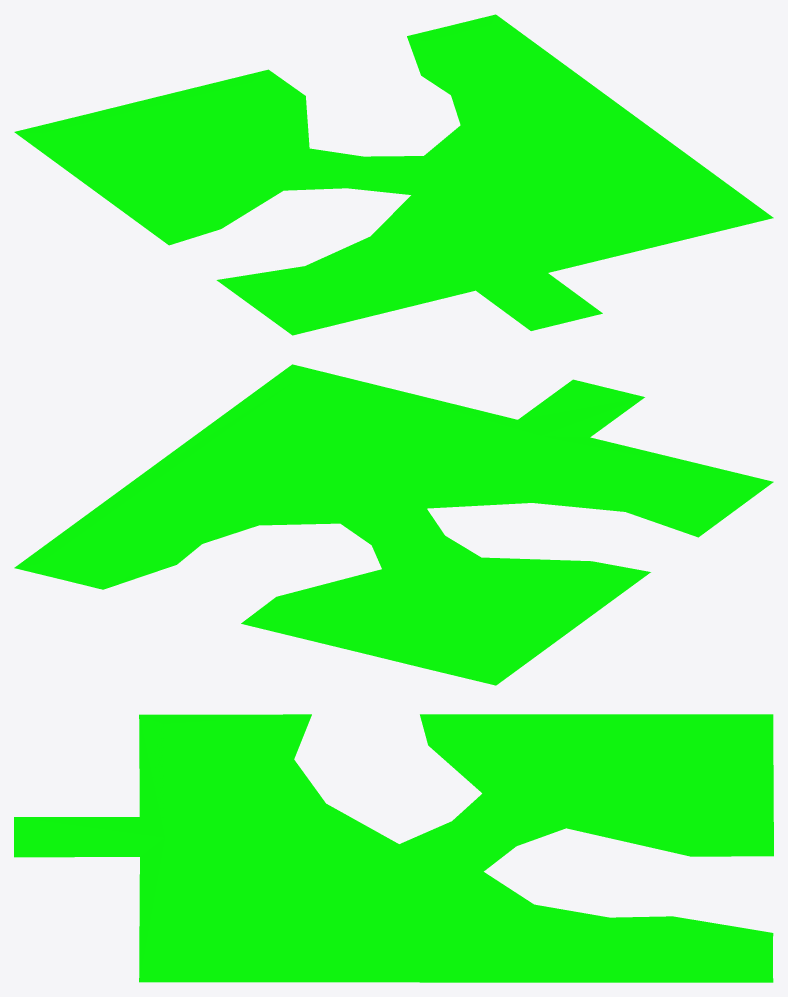
Rendered from s04a_nc2-floor.glb.
3 views of the same model, one above another, from view 1: azimuth 30°, elevation 25°; view 2: azimuth 150°, elevation 25°; view 3: azimuth 270°, elevation 25° (orthographic). The views are drawn at different scales.
Parts seen in each view (by area): view 1: collision_floor-colonly; view 2: collision_floor-colonly; view 3: collision_floor-colonly.
Part boxes in pixels (x1,y1,x2,y2): collision_floor-colonly: (14, 14, 773, 335); collision_floor-colonly: (14, 364, 773, 685); collision_floor-colonly: (14, 714, 773, 982).
Bounding box in the file's own units: 40.01 × 0.0234 × 47.95.
